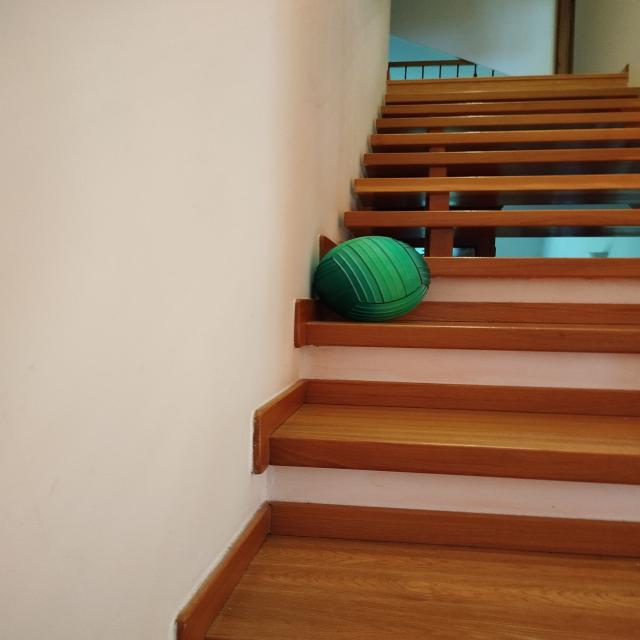zielona: (314, 236, 431, 323)
